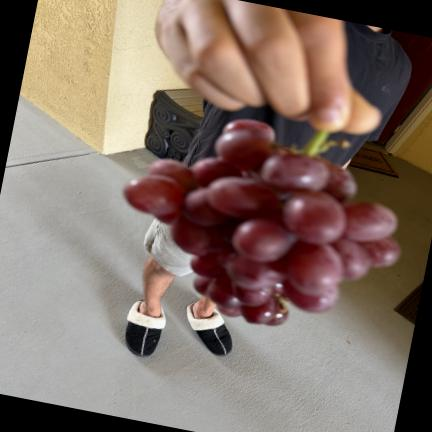grape_cluster: (124, 119, 401, 326)
